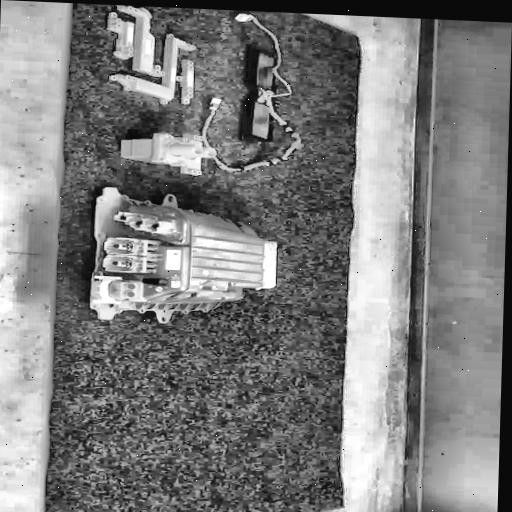bms_unit: (86, 185, 286, 331)
busbar: (99, 5, 206, 109)
connector: (113, 130, 216, 176)
high_volt_cable: (197, 9, 312, 182)
